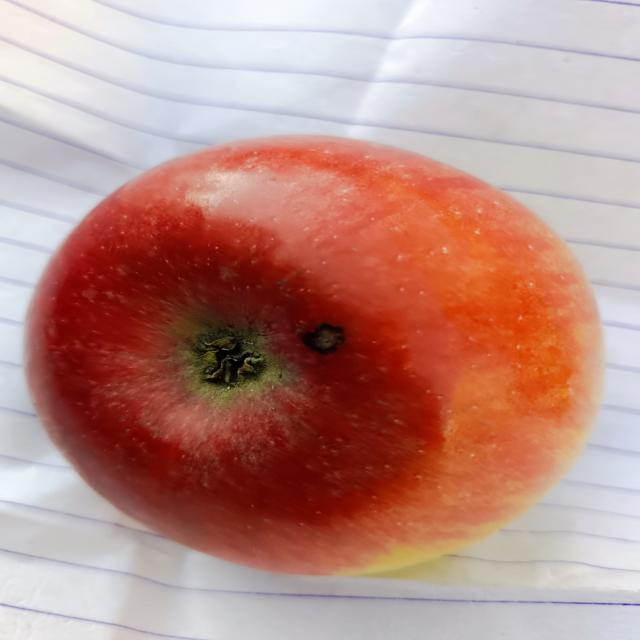Fresh Apple: (17, 128, 603, 578)
